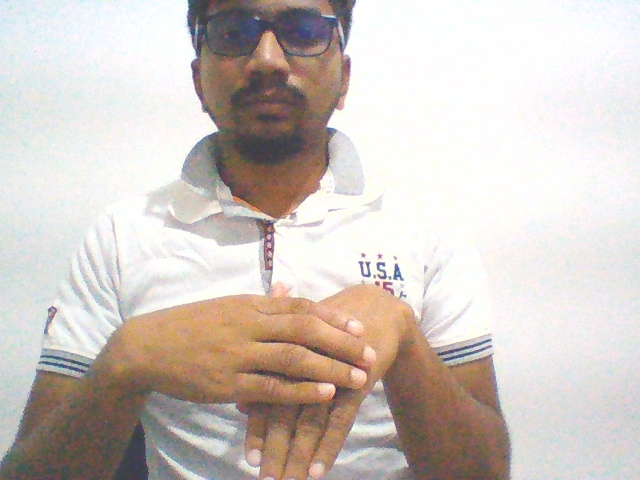pineapple: (120, 274, 420, 480)
